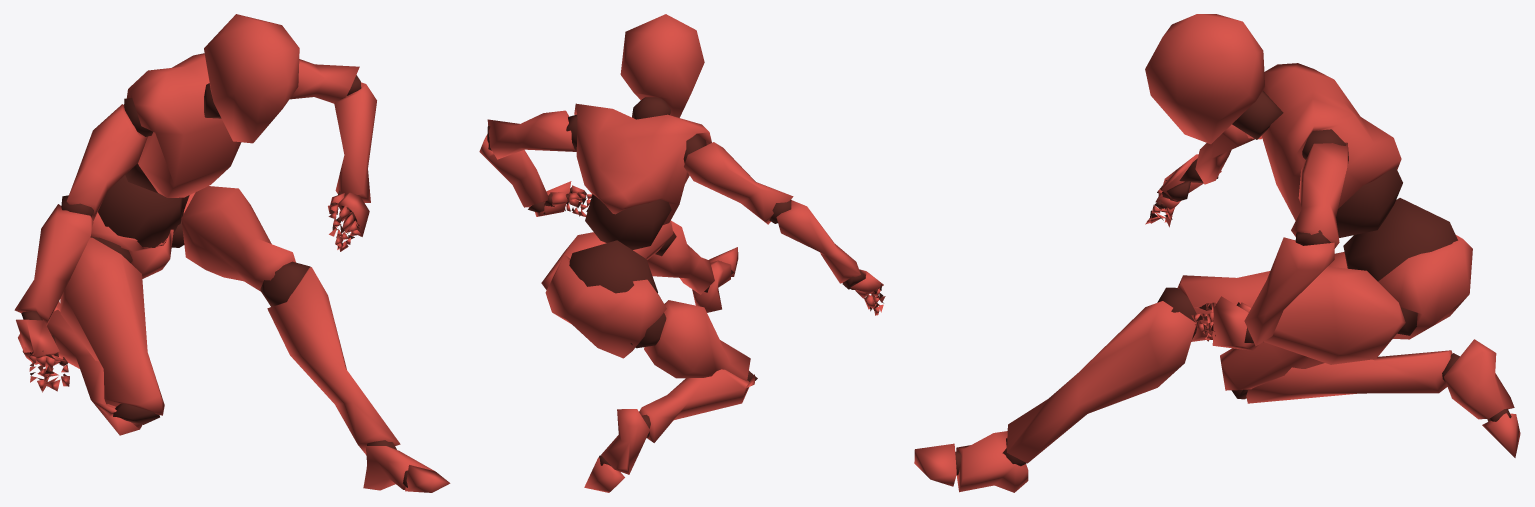
3 views of the same model, side by side, from view 1: azimuth 30°, elevation 25°; view 2: azimuth 150°, elevation 25°; view 3: azimuth 270°, elevation 25° (orthographic). The views are drawn at different scales.
Visible parts, largest first — view 1: Beta_Surface; view 2: Beta_Surface; view 3: Beta_Surface.
Boxes of the visible parts, x1,y1,x2,y2 form: Beta_Surface: (14, 14, 450, 492); Beta_Surface: (479, 14, 885, 492); Beta_Surface: (914, 14, 1520, 492).
Bounding box in the file's own units: 9.15 × 9.26 × 10.78.
